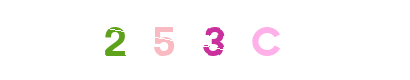2: (75, 0, 155, 80)
3: (172, 0, 252, 80)
5: (165, 0, 245, 80)
C: (175, 0, 255, 80)
